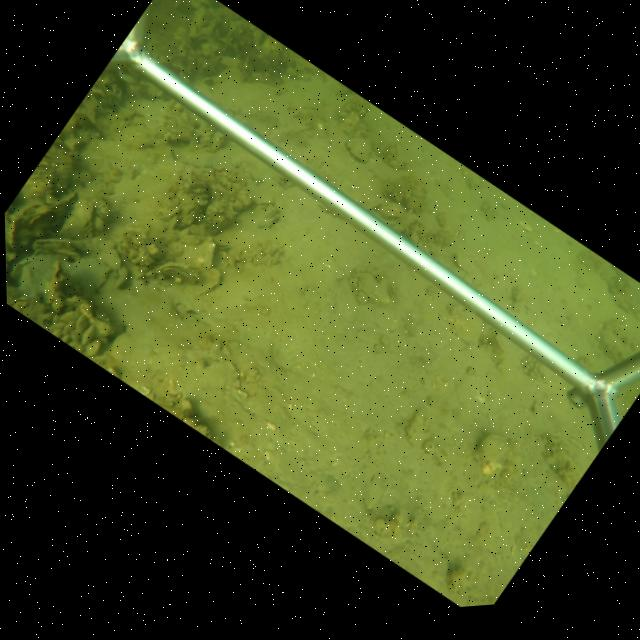Oyster-Closed: (6, 191, 78, 248), (474, 433, 513, 475), (153, 261, 200, 285), (31, 237, 85, 256)
Oyster-Indeterminate: (353, 270, 392, 309), (59, 199, 94, 237), (191, 235, 217, 270), (191, 268, 223, 296), (345, 136, 373, 165)
Oyster-Open: (8, 252, 36, 293)
